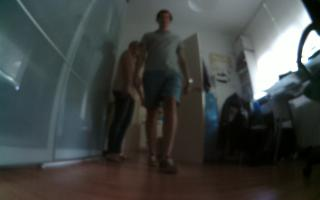person: (138, 7, 196, 177), (100, 36, 144, 167)
